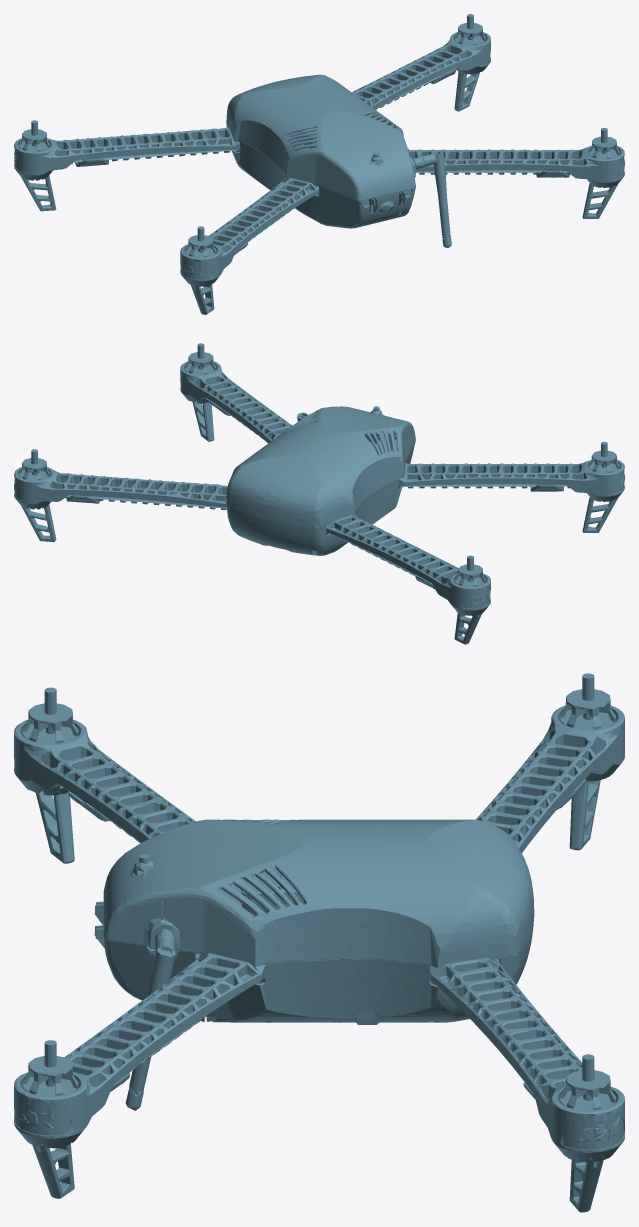
File: iris.glb
The picture shows the model from 3 angles, top to bottom: view 1: azimuth 30°, elevation 25°; view 2: azimuth 150°, elevation 25°; view 3: azimuth 270°, elevation 25°; orthographic projection. The views are drawn at different scales.
Parts seen in each view (by area): view 1: iris.stl; view 2: iris.stl; view 3: iris.stl.
Part boxes in pixels (x1,y1,x2,y2): iris.stl: (14, 14, 624, 314); iris.stl: (14, 343, 624, 644); iris.stl: (14, 673, 624, 1212).
Bounding box in the file's own units: 0.4777 × 0.1137 × 0.2994.
